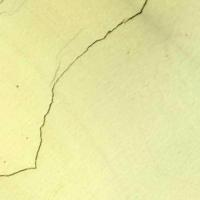crack: (0, 0, 160, 179)
